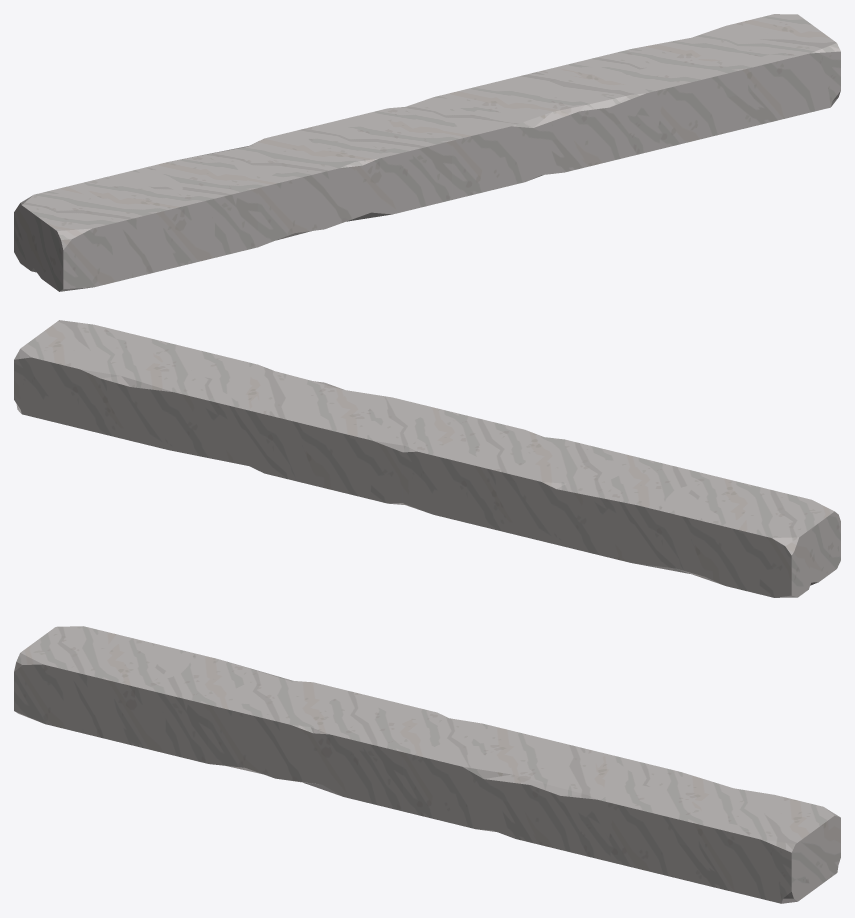
Rendered from SM_Bld_Beam_Large_01.fbx.
The picture shows the model from 3 angles, top to bottom: view 1: azimuth 30°, elevation 25°; view 2: azimuth 150°, elevation 25°; view 3: azimuth 330°, elevation 25°; orthographic projection.
Parts seen in each view (by area): view 1: SM_Bld_Beam_Large_01; view 2: SM_Bld_Beam_Large_01; view 3: SM_Bld_Beam_Large_01.
Part boxes in pixels (bbox=[...]): SM_Bld_Beam_Large_01: bbox=[14, 14, 840, 291]; SM_Bld_Beam_Large_01: bbox=[14, 320, 840, 597]; SM_Bld_Beam_Large_01: bbox=[14, 626, 840, 903].
Size of the model in its own units: 1000 by 72.76 by 110.
